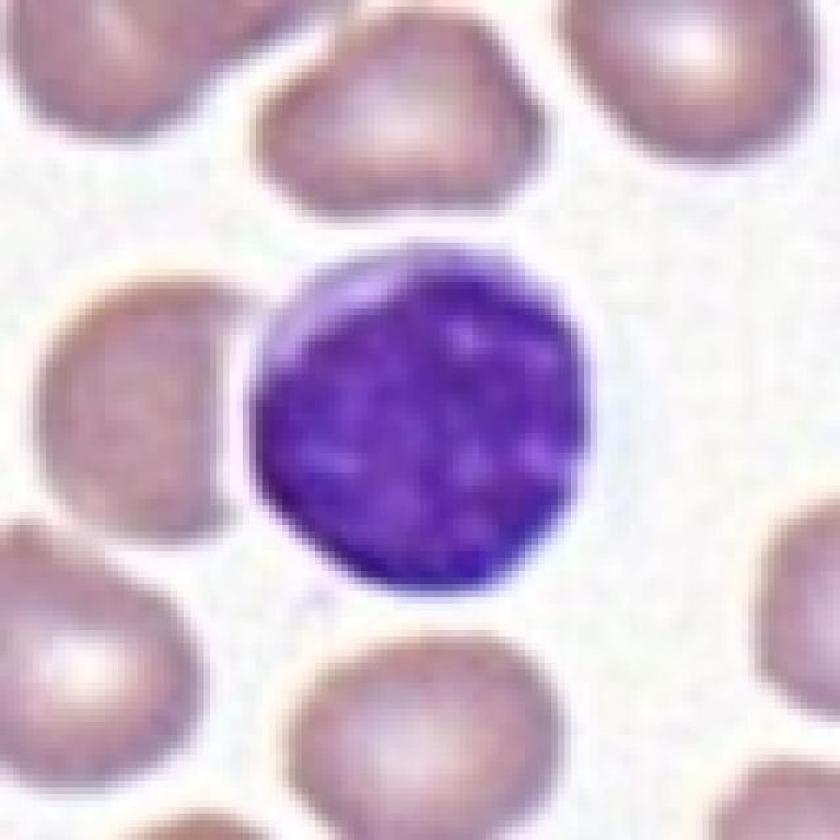lymphocyte: (245, 227, 610, 607)
